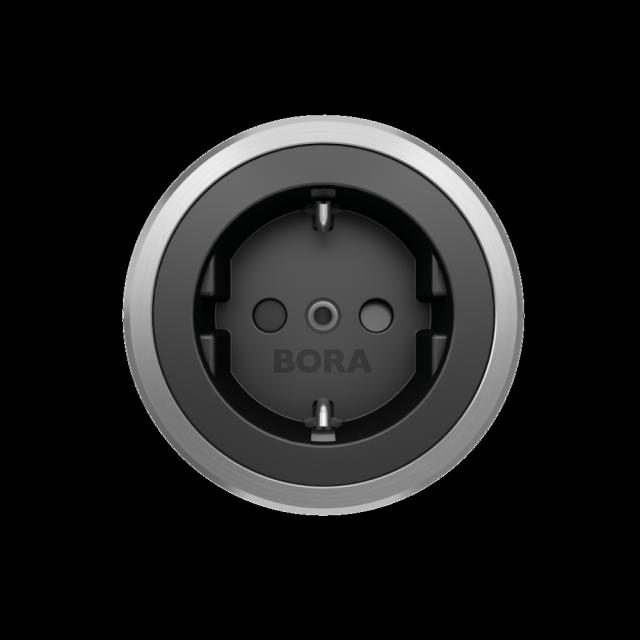typeb: (67, 93, 548, 623)
